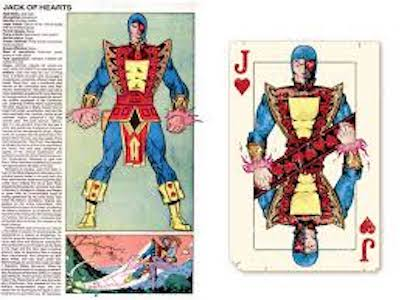JackOfHearts: (227, 36, 385, 276)
